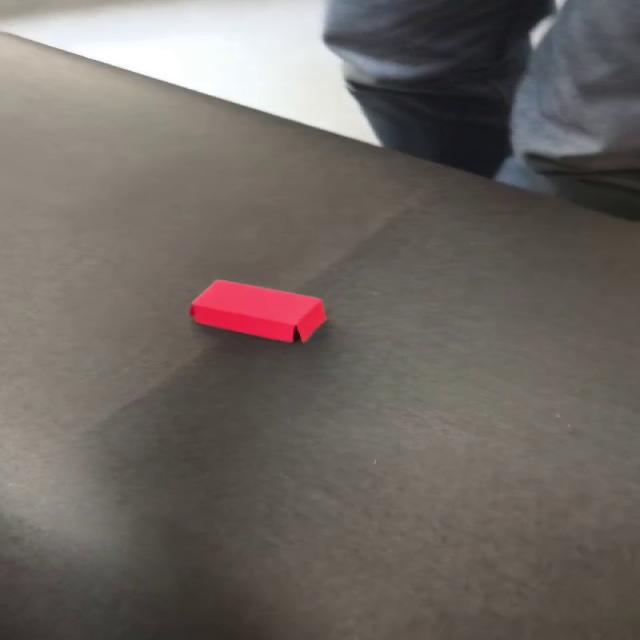red block: (188, 278, 327, 344)
